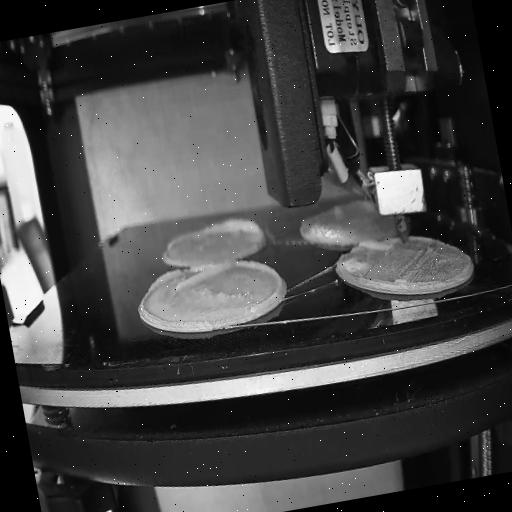over_extrusion: (142, 260, 227, 302), (232, 252, 286, 310), (204, 208, 266, 254), (358, 235, 386, 252)
